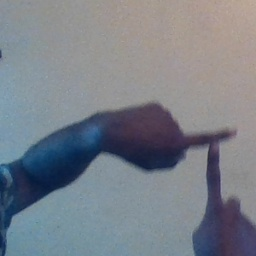T: (148, 106, 252, 221)
